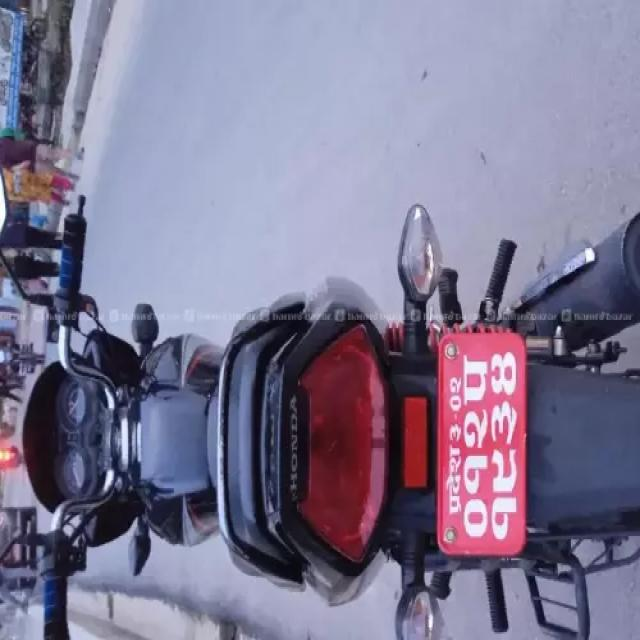License-plate: (434, 334, 530, 567)
